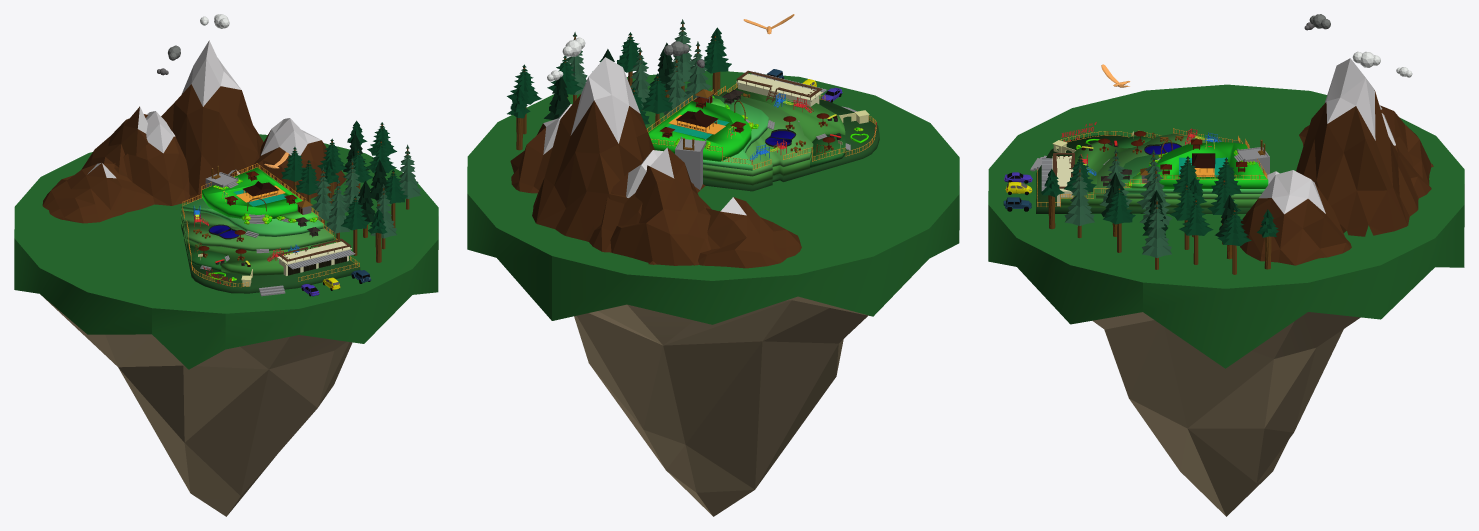
The picture shows the model from 3 angles, left to right: view 1: azimuth 30°, elevation 25°; view 2: azimuth 150°, elevation 25°; view 3: azimuth 270°, elevation 25°; orthographic projection. The views are drawn at different scales.
Parts seen in each view (by area): view 1: Cylinder.013; view 2: Cylinder.013; view 3: Cylinder.013.
Part boxes in pixels (x1=…): Cylinder.013: x1=14, y1=14, x2=438, y2=516; Cylinder.013: x1=467, y1=14, x2=959, y2=516; Cylinder.013: x1=988, y1=14, x2=1464, y2=516.
Bounding box in the file's own units: 0.9935 × 1.13 × 0.9791.
Materials: 3 (3 with a texture image).
